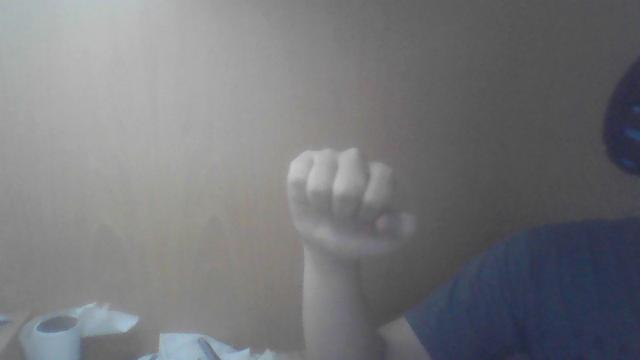forward: (285, 145, 417, 358)
